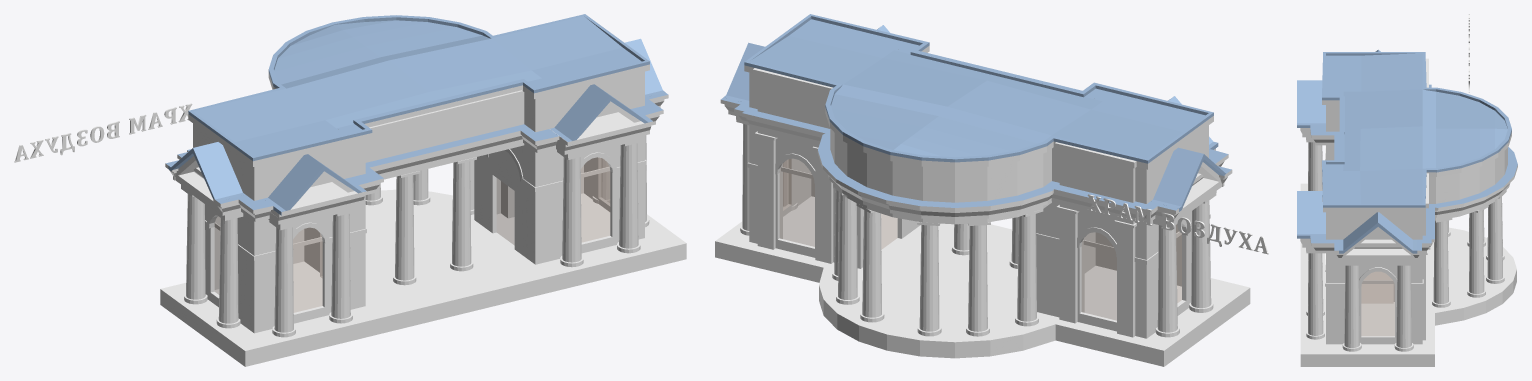
The model's file is Храм.glb.
The picture shows the model from 3 angles, left to right: view 1: azimuth 30°, elevation 25°; view 2: azimuth 150°, elevation 25°; view 3: azimuth 270°, elevation 25°; orthographic projection. The views are drawn at different scales.
Visible parts, largest first — view 1: здание, здание.005, бетон снизу большой, кантик.002, Circle.003, Circle.005, Circle.008, Circle.007, Circle.006, Circle.009, Circle.010, Circle.004 (+11 smaller); view 2: здание.005, бетон снизу большой, здание, Circle, кантик.002, Plane.004, Plane.021, Plane.023, Circle.011, Plane.022, Circle.015, Circle.012 (+13 smaller); view 3: здание.005, бетон снизу большой, здание, кантик.002, Circle, Circle.002, Circle.001, Circle.006, Circle.016, Circle.014, Plane.029, Plane.031 (+9 smaller).
Part boxes in pixels (x1,y1,x2,y2): здание: (188,64,649,333); здание.005: (188,14,649,161); бетон снизу большой: (160,189,686,366); кантик.002: (165,92,668,221); Circle.003: (216,218,240,328); Circle.005: (560,157,583,267); Circle.008: (329,213,352,323); Circle.007: (272,227,295,337); Circle.006: (617,143,640,253); Circle.009: (393,175,416,285); Circle.010: (450,161,473,271); Circle.004: (184,194,207,304); здание.005: (744,14,1213,163); бетон снизу большой: (715,221,1250,366); здание: (744,45,1213,338); Circle: (825,108,1053,224); кантик.002: (720,97,1232,222); Plane.004: (752,68,1136,224); Plane.021: (754,131,782,249); Plane.023: (1056,205,1084,323); Circle.011: (917,225,941,336); Plane.022: (1114,220,1136,337); Circle.015: (966,225,989,336); Circle.012: (860,210,884,322); здание.005: (1322,52,1511,207); бетон снизу большой: (1300,183,1516,366); здание: (1322,100,1425,344); кантик.002: (1300,84,1517,260); Circle: (1426,132,1511,220); Circle.002: (1394,265,1413,351); Circle.001: (1342,265,1361,351); Circle.006: (1306,253,1324,339); Circle.016: (1467,210,1485,297); Circle.014: (1432,220,1450,307); Plane.029: (1297,191,1325,238); Plane.031: (1297,80,1325,127).
Bounding box in the file's own units: 30.93 × 10.2 × 13.14.
